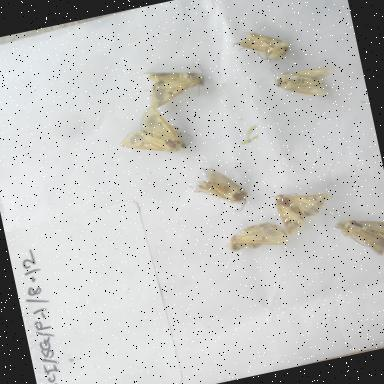abw: (107, 92, 205, 172), (174, 153, 256, 226), (129, 51, 218, 118), (260, 172, 346, 240), (212, 211, 304, 271), (218, 15, 300, 76), (262, 58, 339, 113), (325, 203, 384, 269)
